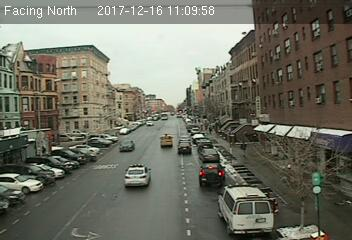car: (198, 160, 225, 186), (200, 149, 220, 162), (118, 139, 135, 151), (160, 134, 173, 146), (178, 142, 191, 154)
pedestrian: (240, 139, 247, 158)
police: (215, 184, 276, 236), (123, 163, 153, 189)
